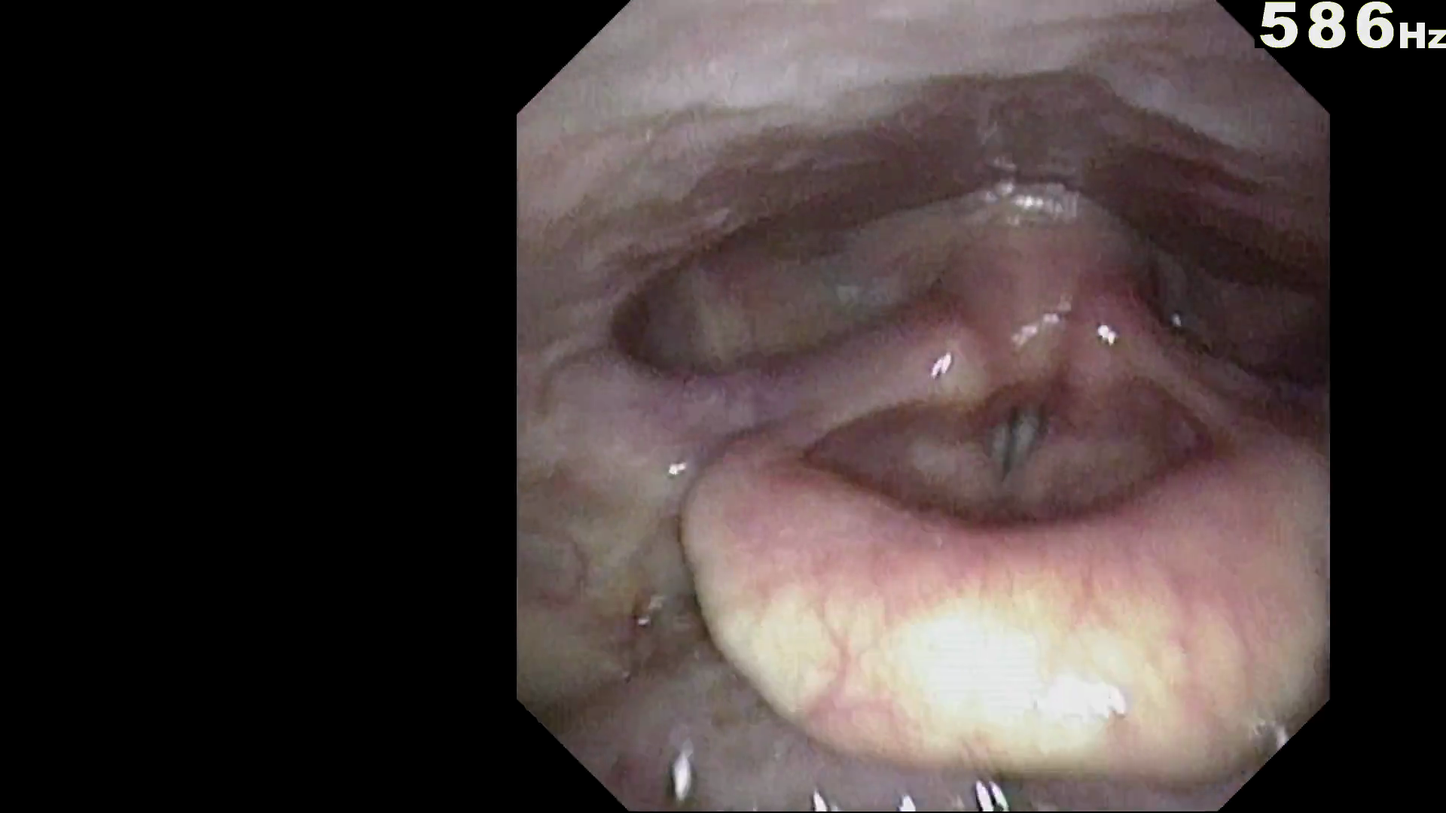epiglottis: (709, 364, 1275, 588)
trachea: (971, 360, 1067, 490)
